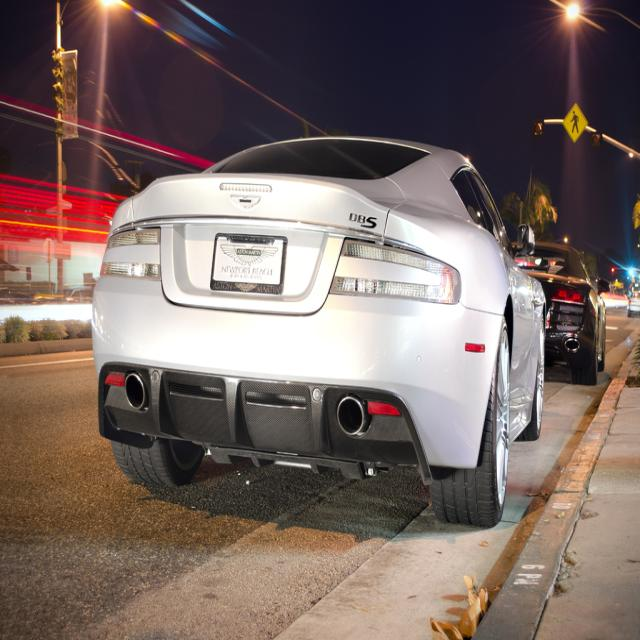car: (91, 135, 546, 528)
